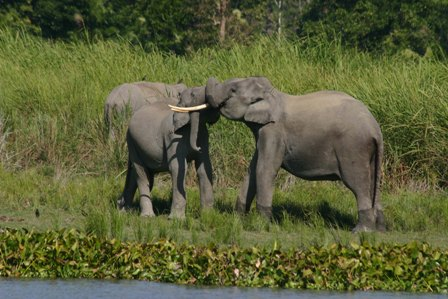Indian Elephant: (193, 56, 405, 245)
